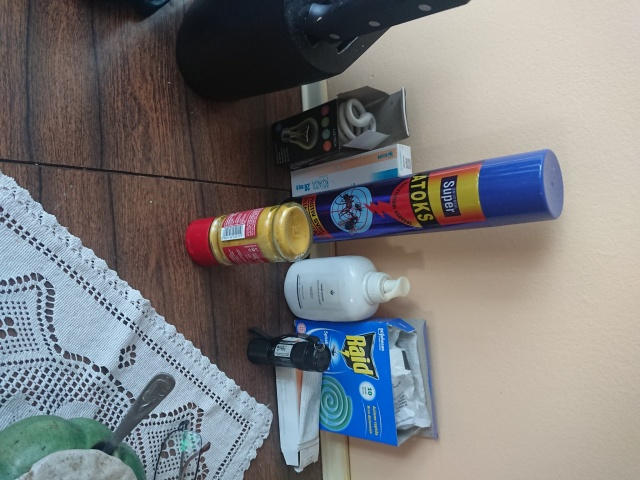Kotanyi Curry Spices Mix 70g: (183, 199, 316, 273)
